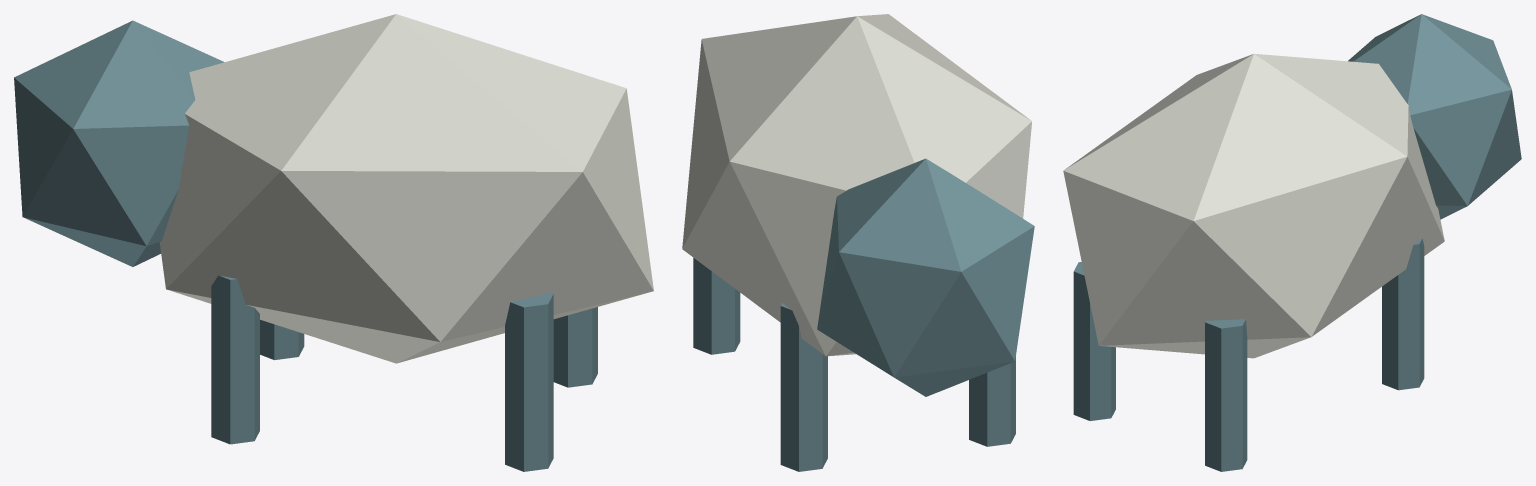
Rendered from sheep_02.glb.
The picture shows the model from 3 angles, left to right: view 1: azimuth 30°, elevation 25°; view 2: azimuth 150°, elevation 25°; view 3: azimuth 270°, elevation 25°; orthographic projection. The views are drawn at different scales.
Visible parts, largest first — view 1: Sheep_02_Body.001, Sheep_02_Head.001, Sheep_02_Leg_1.001, Sheep_02_Leg_3.001, Sheep_02_Leg_0.001, Sheep_02_Leg_2.001; view 2: Sheep_02_Body.001, Sheep_02_Head.001, Sheep_02_Leg_2.001, Sheep_02_Leg_0.001, Sheep_02_Leg_3.001; view 3: Sheep_02_Body.001, Sheep_02_Head.001, Sheep_02_Leg_0.001, Sheep_02_Leg_2.001, Sheep_02_Leg_1.001.
Part boxes in pixels (x1=…): Sheep_02_Body.001: x1=159, y1=14, x2=653, y2=363; Sheep_02_Head.001: x1=14, y1=20, x2=224, y2=266; Sheep_02_Leg_1.001: x1=505, y1=292, x2=553, y2=471; Sheep_02_Leg_3.001: x1=211, y1=275, x2=259, y2=444; Sheep_02_Leg_0.001: x1=553, y1=307, x2=597, y2=387; Sheep_02_Leg_2.001: x1=260, y1=320, x2=304, y2=360; Sheep_02_Body.001: x1=682, y1=14, x2=1031, y2=356; Sheep_02_Head.001: x1=817, y1=158, x2=1034, y2=396; Sheep_02_Leg_2.001: x1=780, y1=303, x2=827, y2=471; Sheep_02_Leg_0.001: x1=693, y1=258, x2=740, y2=354; Sheep_02_Leg_3.001: x1=969, y1=357, x2=1015, y2=446; Sheep_02_Body.001: x1=1063, y1=53, x2=1444, y2=358; Sheep_02_Head.001: x1=1348, y1=14, x2=1521, y2=219; Sheep_02_Leg_0.001: x1=1205, y1=319, x2=1247, y2=471; Sheep_02_Leg_2.001: x1=1382, y1=238, x2=1424, y2=390; Sheep_02_Leg_1.001: x1=1073, y1=262, x2=1115, y2=420.
Size of the model in its own units: 0.9448 by 0.76 by 0.9275.
